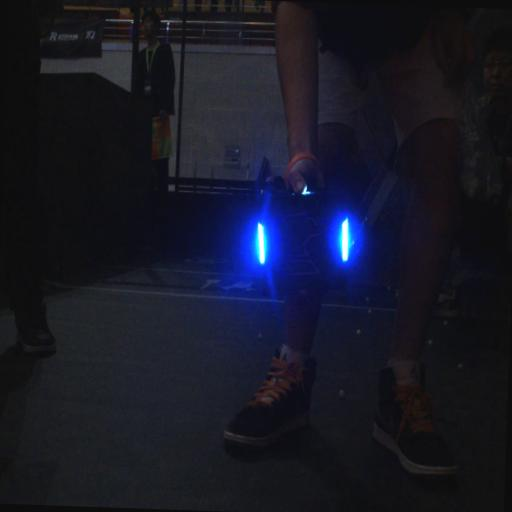target: (255, 196, 354, 291)
